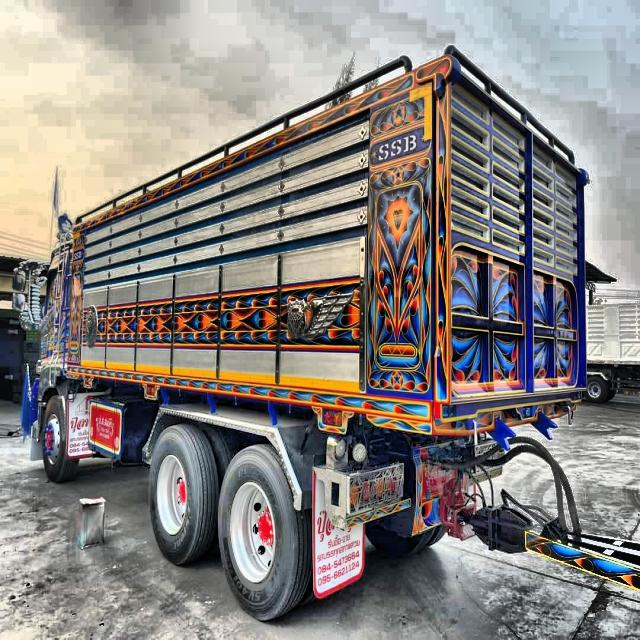trailer: (14, 32, 614, 626)
